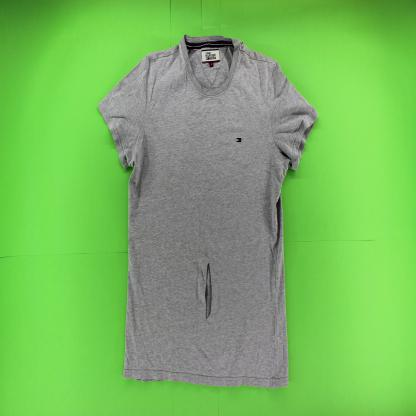hole: (203, 260, 214, 322)
